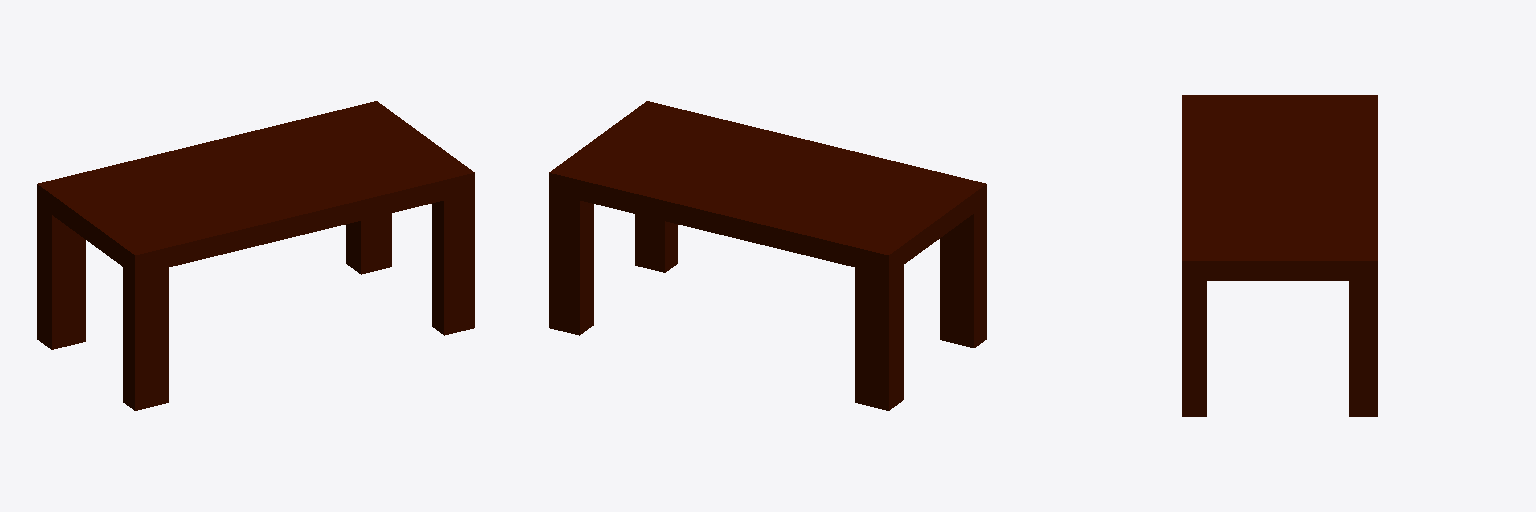
Rendered from bureau.obj.
3 views of the same model, side by side, from view 1: azimuth 30°, elevation 25°; view 2: azimuth 150°, elevation 25°; view 3: azimuth 270°, elevation 25° (orthographic).
Parts seen in each view (by area): view 1: Cube; view 2: Cube; view 3: Cube.
Part boxes in pixels (bbox=[...]): Cube: bbox=[37, 101, 474, 410]; Cube: bbox=[549, 101, 986, 410]; Cube: bbox=[1182, 95, 1377, 416].
Size of the model in its own units: 1.6 by 0.6999 by 0.7999.